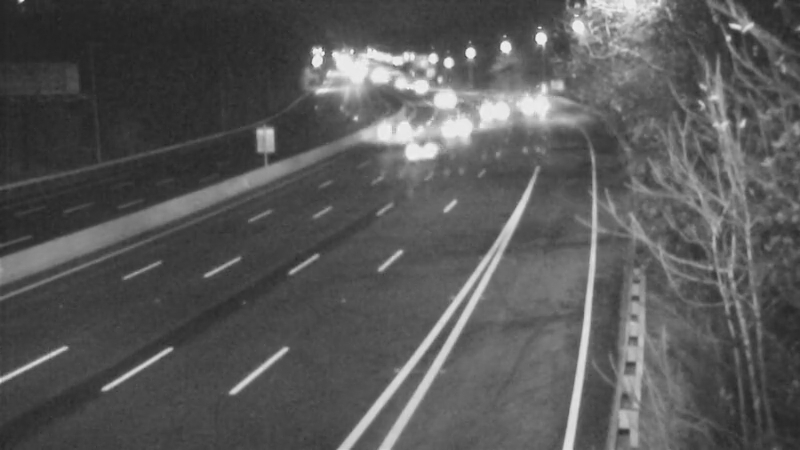vehicle: (375, 56, 425, 106), (392, 61, 442, 111), (414, 77, 464, 127), (504, 75, 554, 125), (468, 84, 518, 134), (435, 102, 485, 152), (371, 103, 421, 153), (394, 121, 444, 171)
